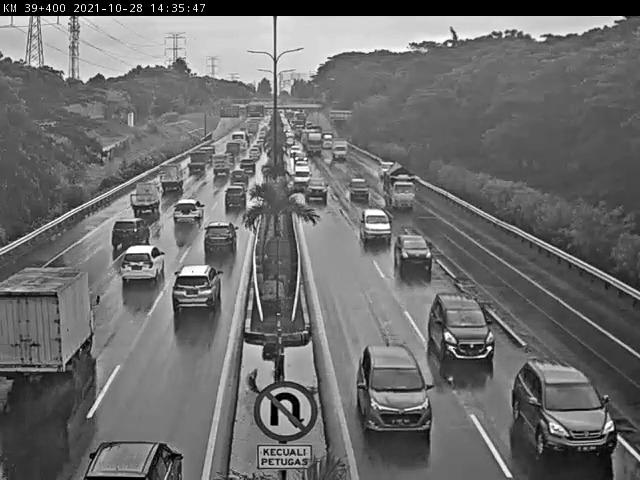big truck: (306, 132, 322, 157)
car: (535, 367, 608, 460), (428, 292, 499, 351), (363, 353, 427, 418), (92, 432, 172, 480), (173, 264, 216, 321), (121, 243, 162, 292), (105, 230, 141, 267), (395, 225, 425, 263), (199, 236, 228, 275), (355, 205, 385, 241), (128, 181, 153, 224), (166, 210, 200, 241), (220, 189, 245, 221), (349, 173, 372, 202), (226, 171, 244, 190), (294, 163, 308, 182)
small truck: (9, 280, 72, 399), (155, 166, 181, 201), (384, 165, 405, 204), (190, 152, 207, 174), (303, 180, 325, 195), (212, 156, 223, 182), (333, 141, 345, 160)
